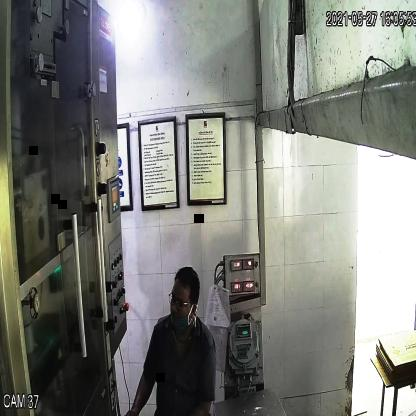goggles: (163, 285, 197, 312)
